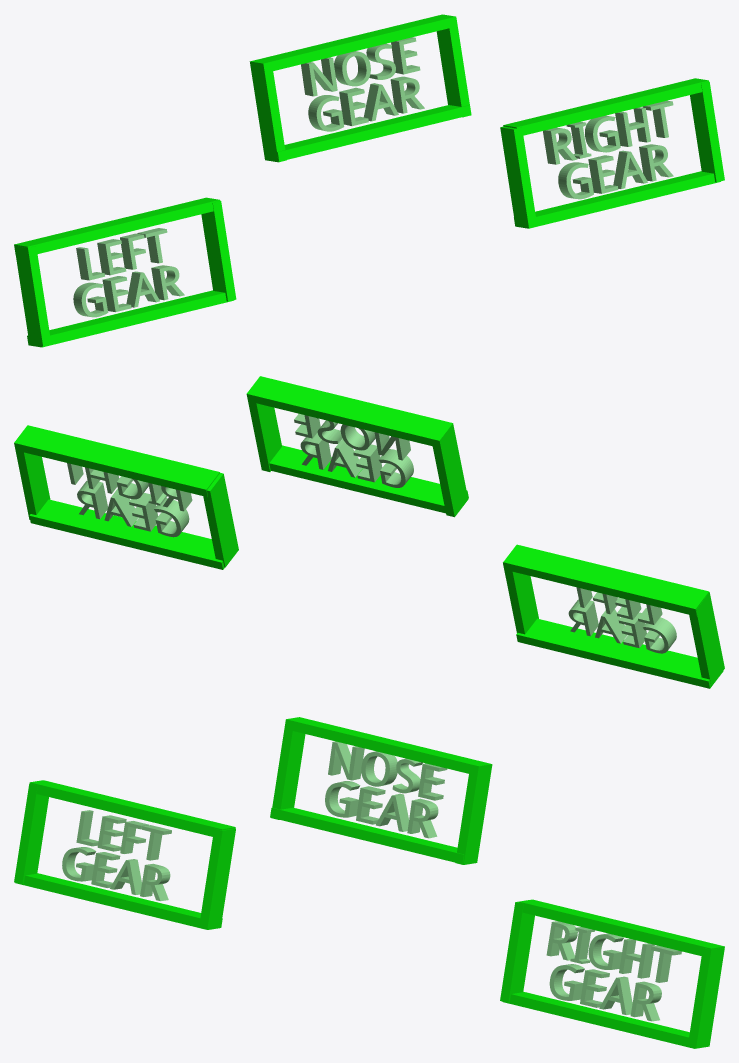
File: 737-gear-down-ind.glb
The picture shows the model from 3 angles, top to bottom: view 1: azimuth 30°, elevation 25°; view 2: azimuth 150°, elevation 25°; view 3: azimuth 330°, elevation 25°; orthographic projection.
Visible parts, largest first — view 1: Box (×12), Mesh_Mesh_head_geo001_lambert2SG001 (×3); view 2: Box (×12), Mesh_Mesh_head_geo001_lambert2SG001 (×3); view 3: Box (×12), Mesh_Mesh_head_geo001_lambert2SG001 (×3).
Boxes of the visible parts, x1,y1,x2,y2 form: Box (×12): [14, 14, 724, 347]; Mesh_Mesh_head_geo001_lambert2SG001 (×3): [73, 37, 673, 317]; Box (×12): [14, 376, 724, 688]; Mesh_Mesh_head_geo001_lambert2SG001 (×3): [67, 413, 676, 653]; Box (×12): [14, 717, 724, 1048]; Mesh_Mesh_head_geo001_lambert2SG001 (×3): [62, 741, 681, 1021].
Bounding box in the file's own units: 0.0902 × 0.027 × 0.00903.
